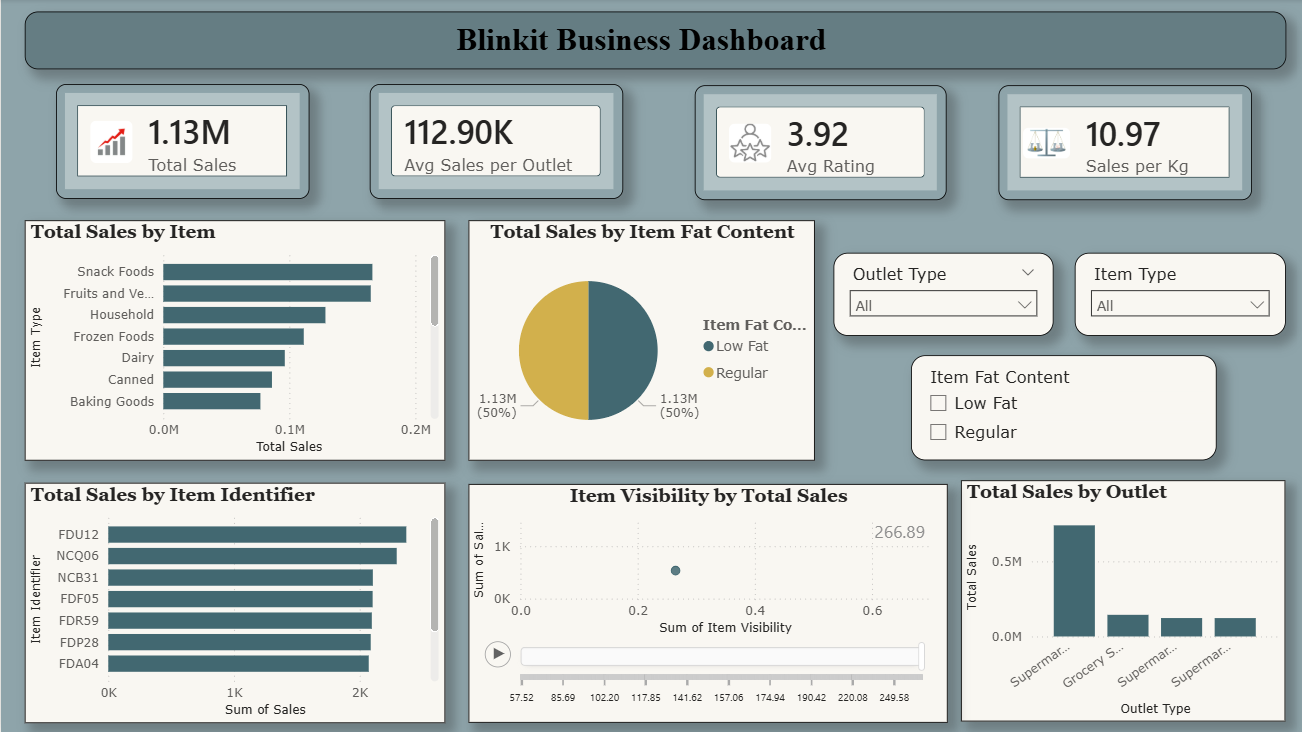

The page's visual inventory and layout, read from the dashboard file:
{"tool":"powerbi","page":{"name":"Dashboard","canvas":[1280,720],"ordinal":0},"visuals":[{"type":"cardVisual","fields":{"Data":["Measures table.Total Sales"]},"box":[54.3,82.9,248.6,112.9],"z":0},{"type":"cardVisual","fields":{"Data":["Measures table.Avg Sales per Outlet"]},"box":[361.4,82.9,248.6,112.9],"z":1000},{"type":"cardVisual","fields":{"Data":["Measures table.Avg Rating"]},"box":[681.4,84.3,247.1,112.9],"z":2000},{"type":"cardVisual","fields":{"Data":["Measures table.Sales per Kg"]},"box":[978.6,84.3,248.6,112.9],"z":3000},{"type":"clusteredBarChart","title":"Total Sales by Item ","fields":{"Category":["Items.Item Type"],"Y":["Measures table.Total Sales"]},"box":[22.9,217.1,412.9,235.7],"z":4000},{"type":"pieChart","fields":{"Category":["Items Content.Item Fat Content"],"Y":["Measures table.Total Sales"]},"box":[458.6,217.1,340,235.7],"z":5000},{"type":"columnChart","title":"Total Sales by Outlet ","fields":{"Category":["Outlet Info.Outlet Type"],"Y":["Measures table.Total Sales"]},"box":[942.9,472.9,318.6,237.1],"z":6000},{"type":"scatterChart","title":"Item Visibility by Total Sales","fields":{"X":["Sum(BlinkIT Grocery Data.Item Visibility)"],"Y":["Sum(BlinkIT Grocery Data.Sales)"],"Play":["BlinkIT Grocery Data.Sales"]},"box":[458.6,475.7,470,234.3],"z":7000},{"type":"barChart","title":"Total Sales by Item Identifier","fields":{"Y":["Sum(BlinkIT Grocery Data.Sales)"],"Category":["BlinkIT Grocery Data.Item Identifier"]},"box":[22.9,474.3,412.9,235.7],"z":8000},{"type":"textbox","box":[22.9,12.9,1238.6,57.1],"z":9000},{"type":"slicer","fields":{"Values":["Original.Outlet Type"]},"box":[817.1,248.6,215.7,81.4],"z":10000},{"type":"slicer","fields":{"Values":["Original.Item Type"]},"box":[1054.3,248.6,207.1,81.4],"z":11000},{"type":"slicer","fields":{"Values":["Items Content.Item Fat Content"]},"box":[892.9,350,300,102.9],"z":12000}]}

Visuals, with their boxes in screenshot pixels (x1, y1, x2, y2), scaled from the page's 1280x720 canvas onto the 1302x732 screenshot:
cardVisual - Measures table.Total Sales: locate(55, 84, 308, 199)
cardVisual - Measures table.Avg Sales per Outlet: locate(368, 84, 620, 199)
cardVisual - Measures table.Avg Rating: locate(693, 86, 944, 200)
cardVisual - Measures table.Sales per Kg: locate(995, 86, 1248, 200)
"Total Sales by Item " clusteredBarChart: locate(23, 221, 443, 460)
pieChart - Items Content.Item Fat Content x Measures table.Total Sales: locate(466, 221, 812, 460)
"Total Sales by Outlet " columnChart: locate(959, 481, 1283, 722)
"Item Visibility by Total Sales" scatterChart: locate(466, 484, 945, 722)
"Total Sales by Item Identifier" barChart: locate(23, 482, 443, 722)
textbox: locate(23, 13, 1283, 71)
slicer - Original.Outlet Type: locate(831, 253, 1051, 336)
slicer - Original.Item Type: locate(1072, 253, 1283, 336)
slicer - Items Content.Item Fat Content: locate(908, 356, 1213, 460)
